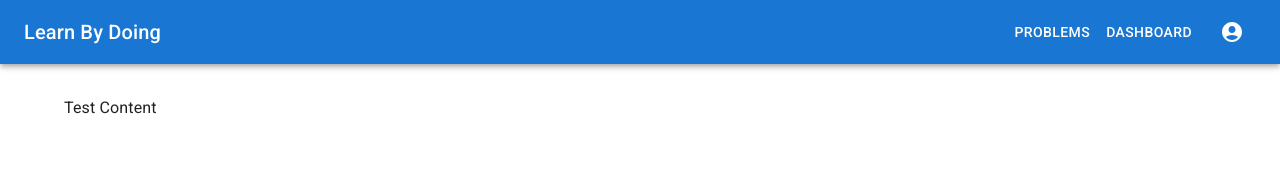
Layout Component › opens user menu when account icon is clicked
# Find and click the account icon button
Click the button named "Account" at x=1232, y=32, box x1=1208 y1=8 x2=1256 y2=56
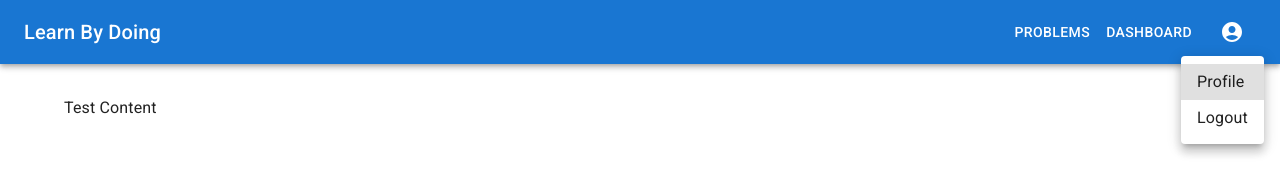
Expected: the menu item "Profile" is shown, x1=1181 y1=64 x2=1264 y2=100
Expected: the menu item "Logout" is shown, x1=1197 y1=108 x2=1248 y2=127
